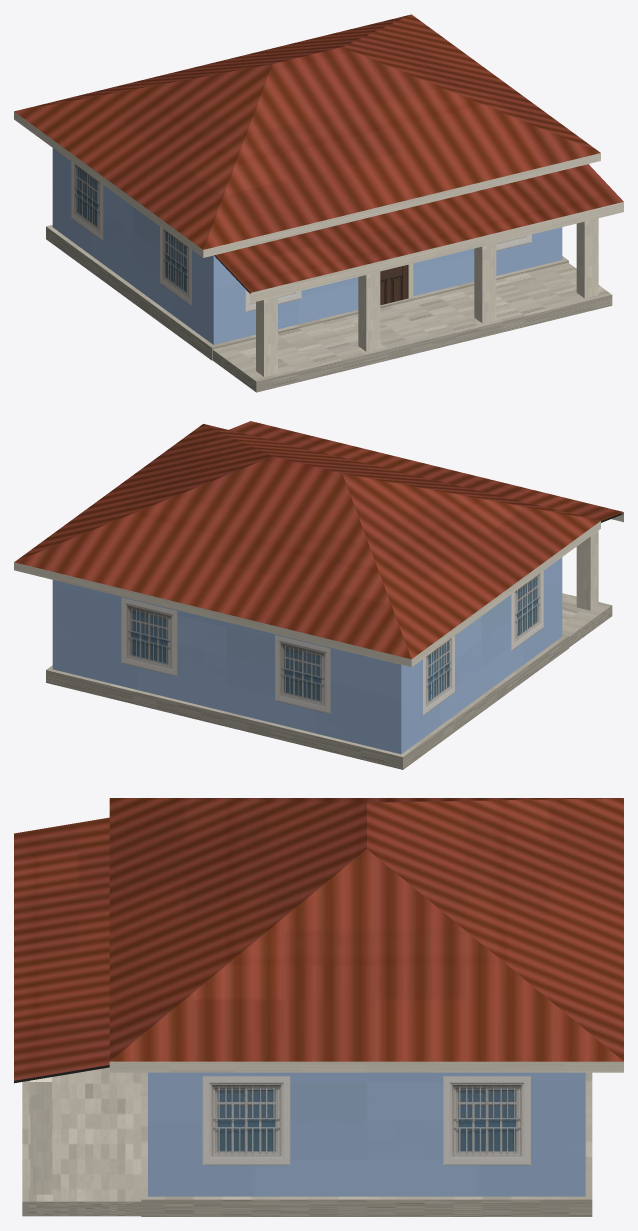
Rendered from bungalow-sky-far.glb.
3 views of the same model, one above another, from view 1: azimuth 30°, elevation 25°; view 2: azimuth 150°, elevation 25°; view 3: azimuth 270°, elevation 25° (orthographic). The views are drawn at different scales.
Parts seen in each view (by area): view 1: bungalow-sky; view 2: bungalow-sky; view 3: bungalow-sky.
Part boxes in pixels (bbox=[...]): bungalow-sky: bbox=[14, 14, 623, 392]; bungalow-sky: bbox=[14, 421, 623, 769]; bungalow-sky: bbox=[14, 798, 623, 1216].
Size of the model in its own units: 11.4 by 5.5 by 11.15.
Materials: 1 (1 with a texture image).
